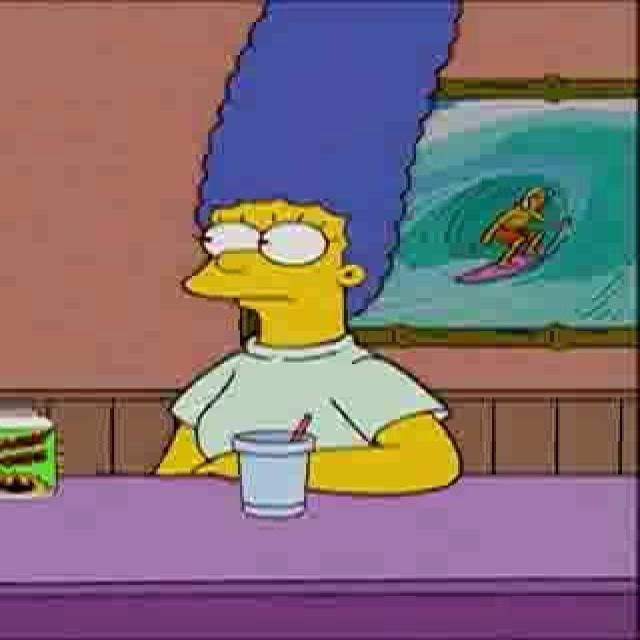Marge Simpson: (177, 0, 467, 349)
